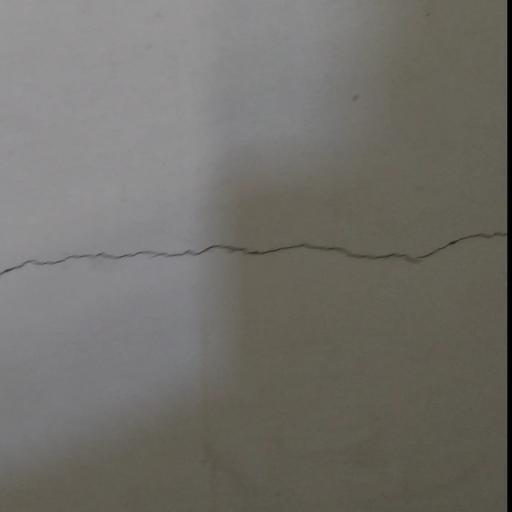minor_crack: (0, 221, 505, 278)
